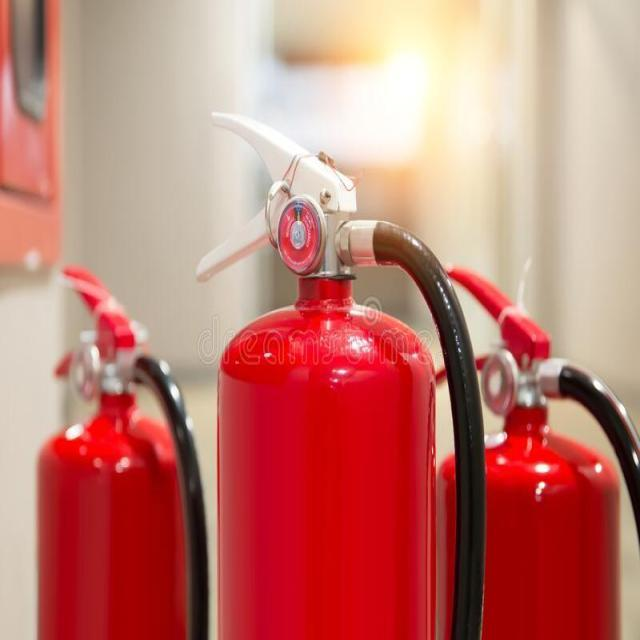fire_extinguisher: (191, 103, 492, 639), (415, 258, 639, 639), (27, 258, 215, 639)
